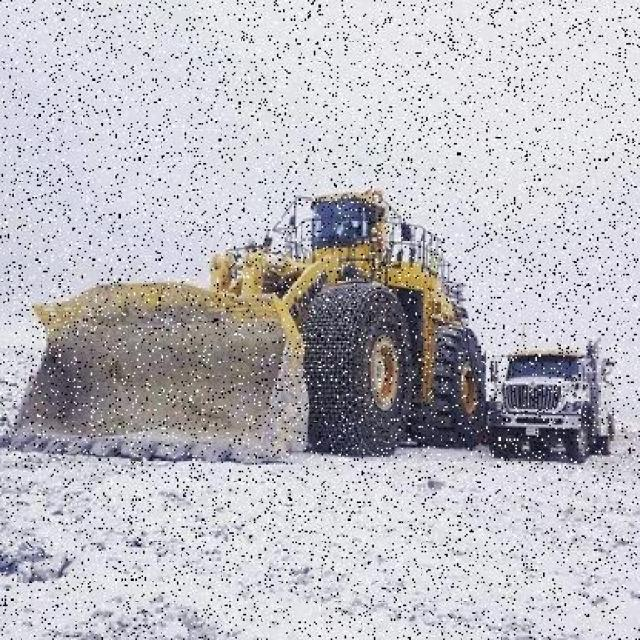buldozerpayloadergrader: (34, 181, 494, 476)
